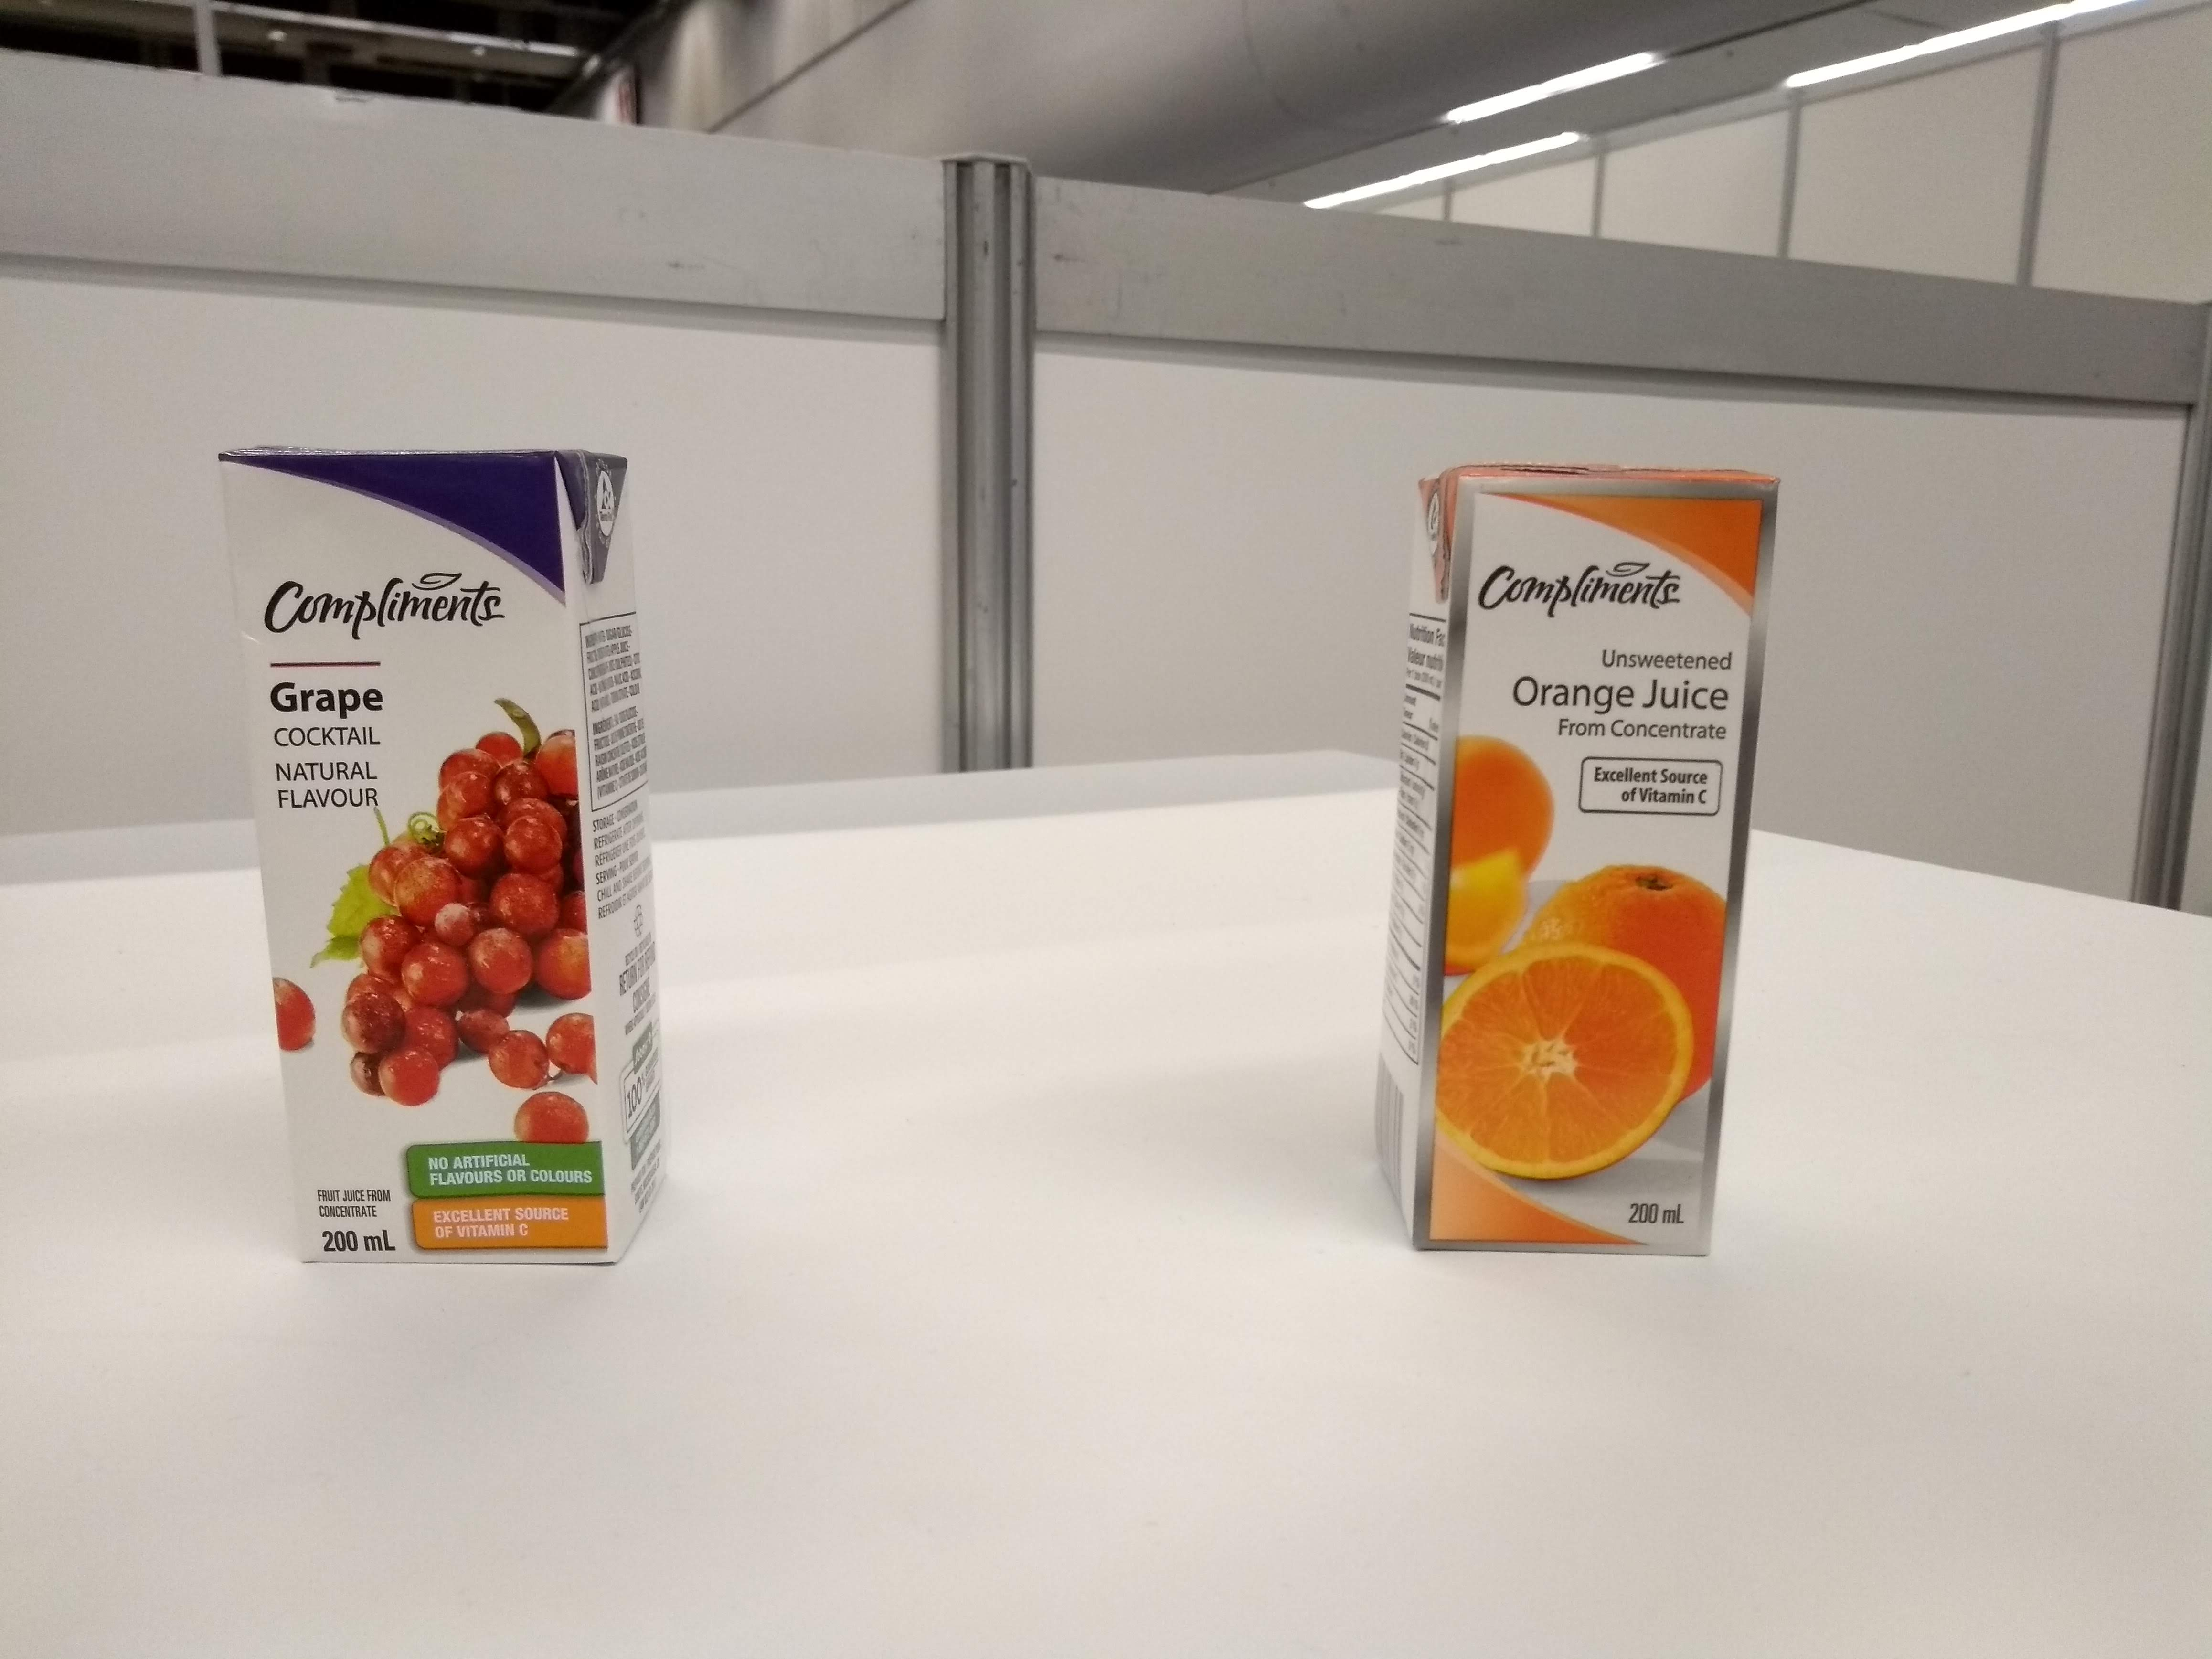grape_juice: (200, 422, 685, 1279)
orange_juice: (1353, 448, 1797, 1265)
